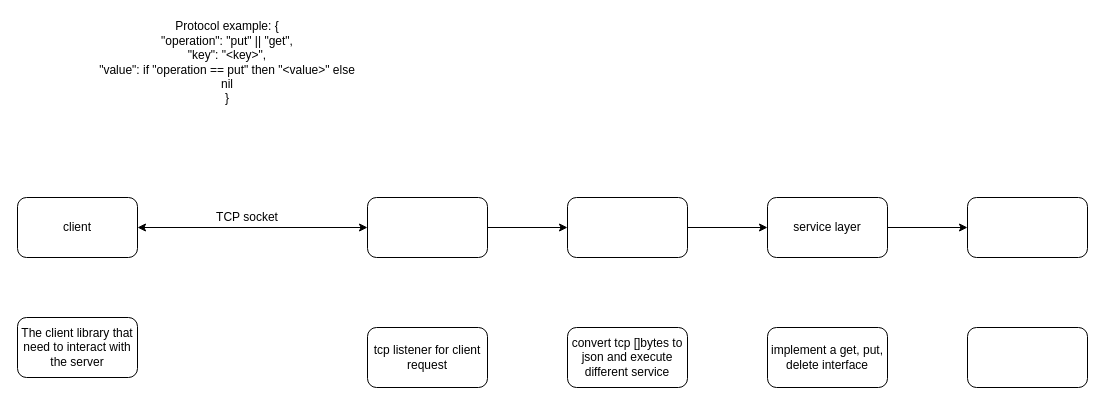
This 1105x405 diagram has some shape labels left out. Here are the shapes that lost their labels. From the top down, the centre of each, then its label:
point (427, 227): server layer
point (627, 227): protocol parser
point (1027, 227): persistence layer
